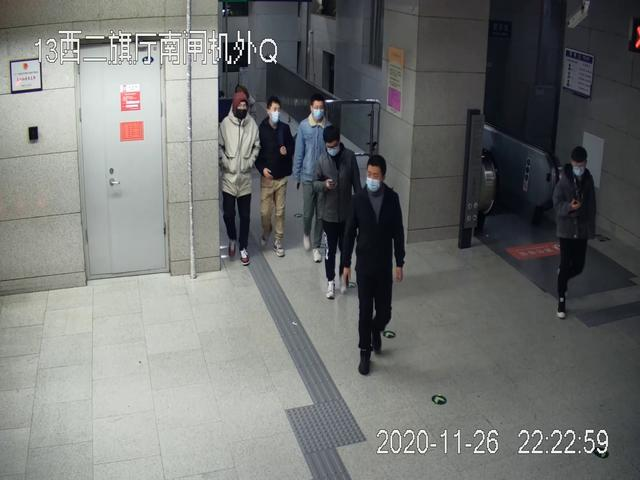person: (343, 155, 404, 378), (313, 125, 365, 300), (552, 145, 597, 320), (218, 90, 258, 265), (294, 95, 333, 263), (258, 97, 293, 256)
